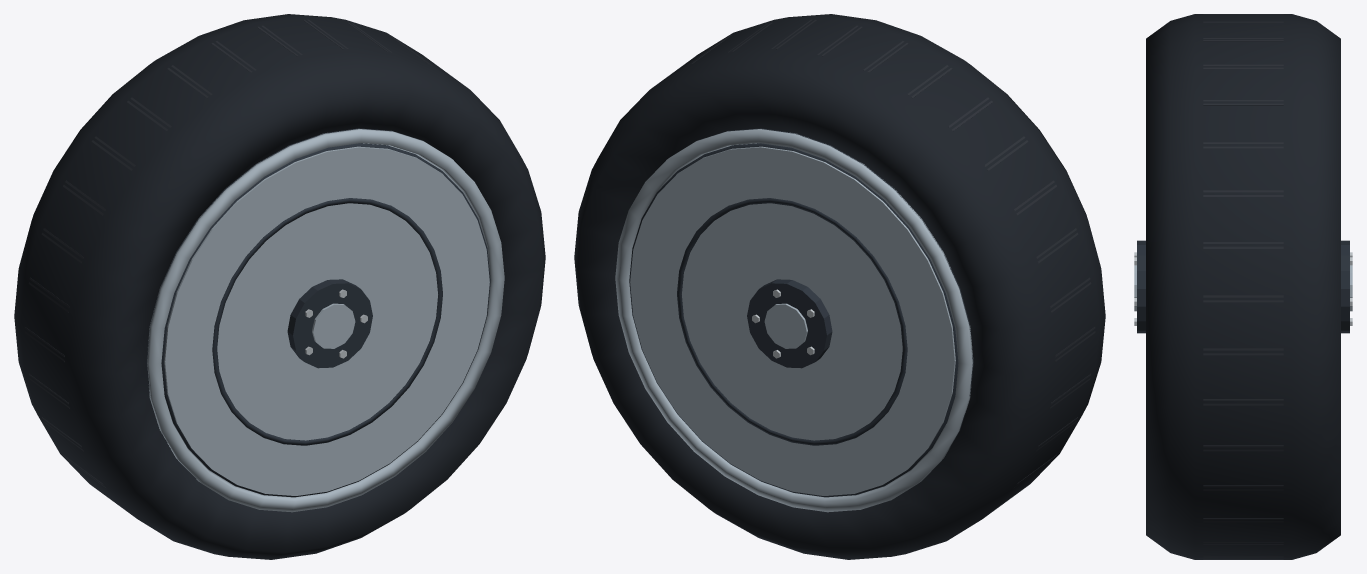
File: disc.glb
The picture shows the model from 3 angles, left to right: view 1: azimuth 30°, elevation 25°; view 2: azimuth 150°, elevation 25°; view 3: azimuth 270°, elevation 25°; orthographic projection.
Parts seen in each view (by area): view 1: wheel; view 2: wheel; view 3: wheel.
Part boxes in pixels (x1,y1,x2,y2): wheel: [14, 14, 545, 559]; wheel: [574, 14, 1105, 559]; wheel: [1134, 14, 1352, 559].
Size of the model in its own units: 2 by 2 by 0.8.
